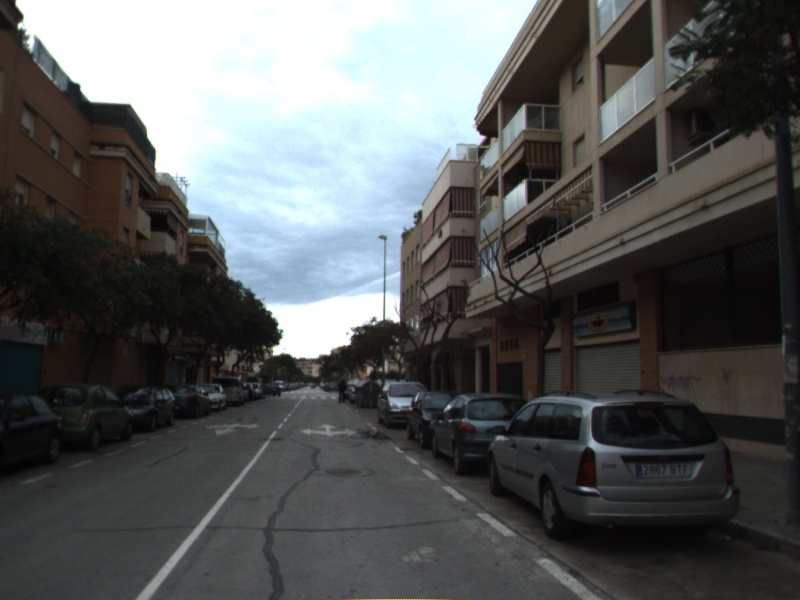STRAIGHT_LEFT_RIGHT: (299, 422, 359, 438)
